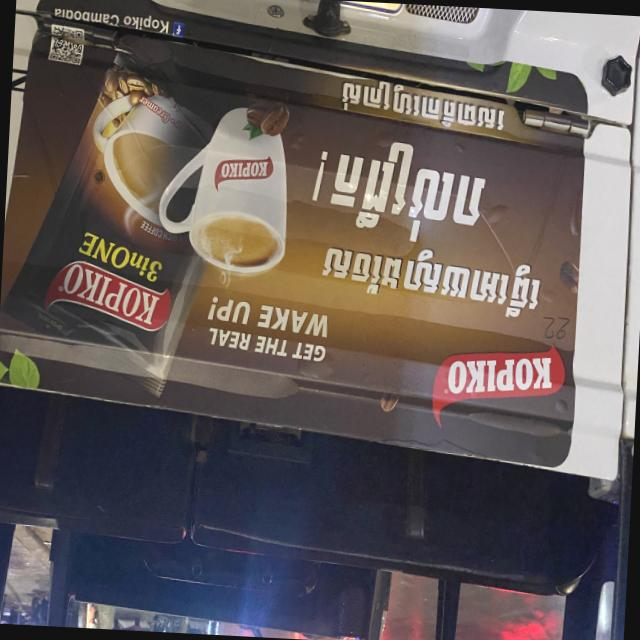660: (537, 314, 574, 348)
702: (142, 254, 164, 290)
Yolov11_80vkh: (296, 127, 499, 255), (316, 238, 550, 324), (338, 74, 509, 136)
